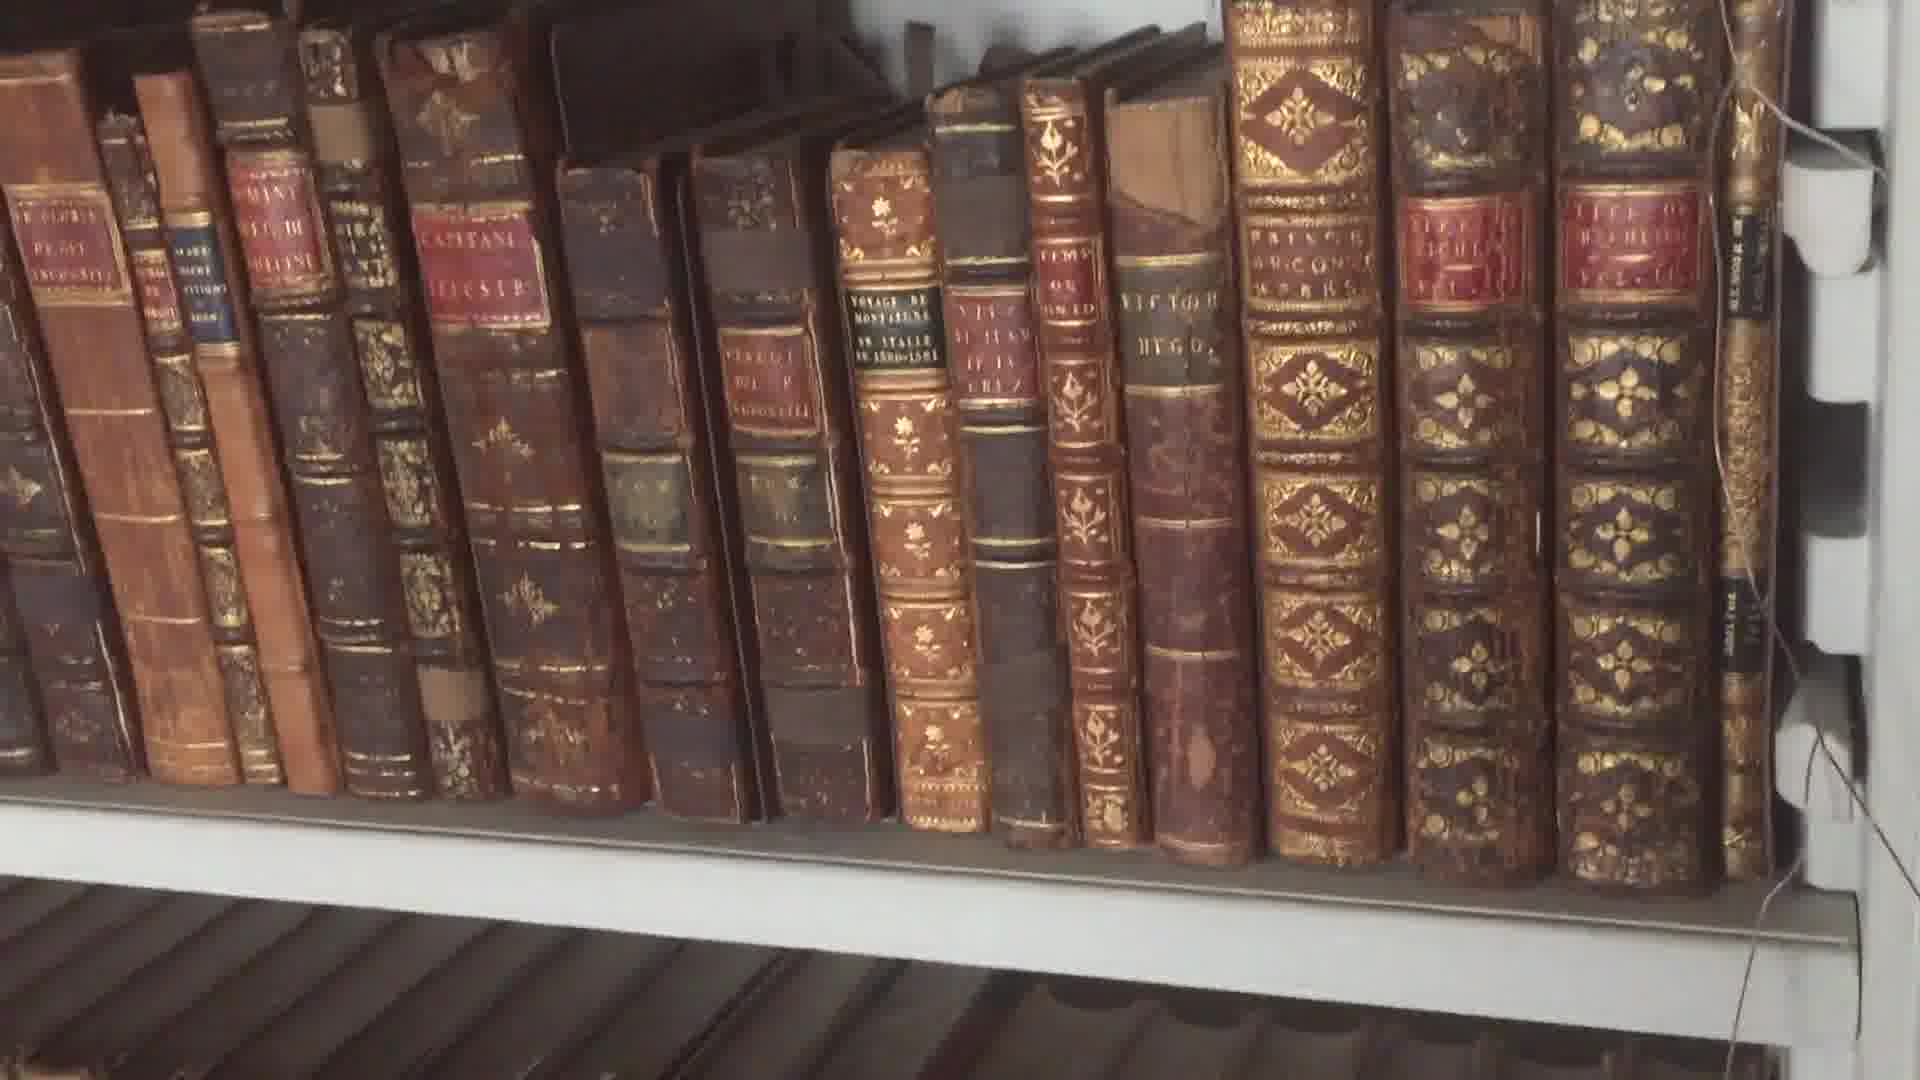Aa6-38: (368, 18, 629, 848)
Aa6-39_40: (538, 136, 877, 833)
Aa6-41: (794, 131, 990, 818)
Aa6-42: (891, 84, 1104, 851)
Aa6-43: (1007, 66, 1170, 851)
Aa6-44: (1075, 73, 1290, 884)
Aa6-45: (1212, 9, 1429, 844)
Aa6-46-47: (1367, 9, 1714, 891)
Aa6-48: (1716, 7, 1789, 891)
